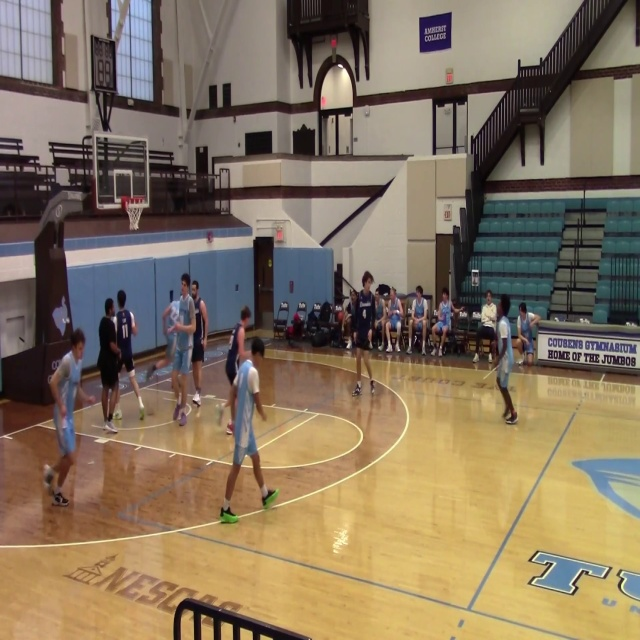Basketball: (513, 338, 523, 350)
